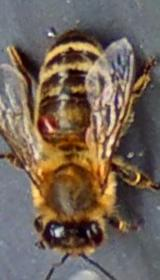varroa_mite: (26, 110, 74, 145)
